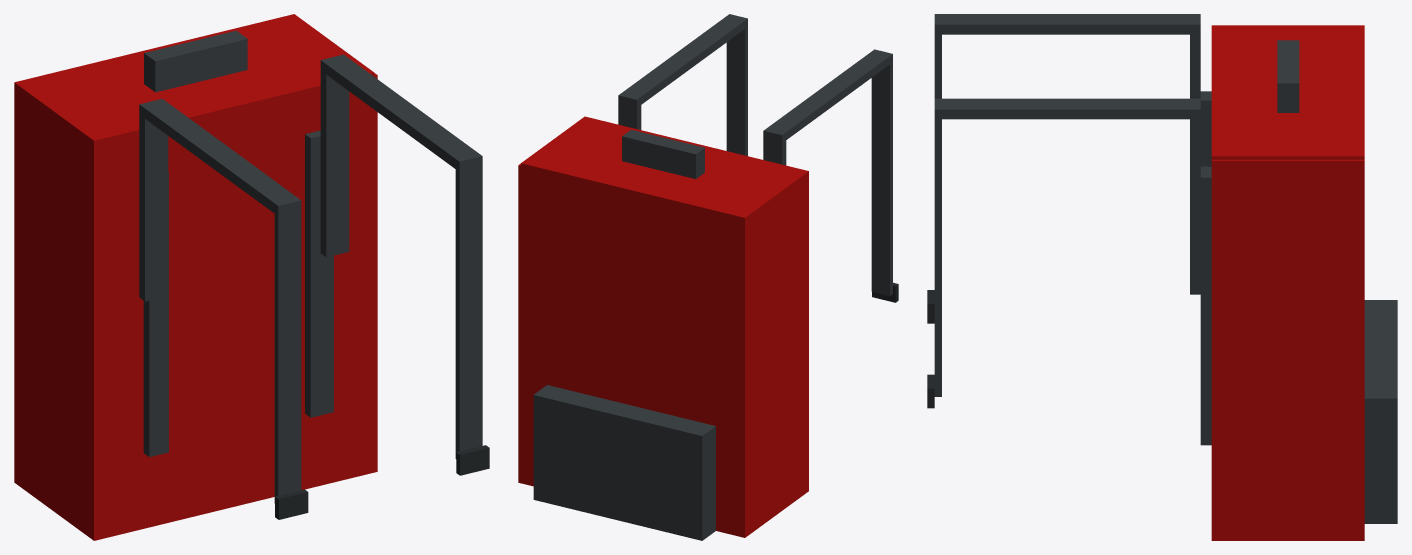
File: school_backpack_worn.glb
3 views of the same model, side by side, from view 1: azimuth 30°, elevation 25°; view 2: azimuth 150°, elevation 25°; view 3: azimuth 270°, elevation 25° (orthographic). The views are drawn at different scales.
Visible parts, largest first — view 1: bag:bag, straps:straps; view 2: bag:bag, straps:straps; view 3: bag:bag, straps:straps.
Part boxes in pixels (x1=…): bag:bag: x1=14, y1=14, x2=377, y2=540; straps:straps: x1=139, y1=54, x2=489, y2=519; bag:bag: x1=518, y1=116, x2=808, y2=540; straps:straps: x1=618, y1=14, x2=898, y2=302; bag:bag: x1=1200, y1=25, x2=1397, y2=540; straps:straps: x1=927, y1=14, x2=1200, y2=408.
Bounding box in the file's own units: 0.344 × 0.5 × 0.516.
